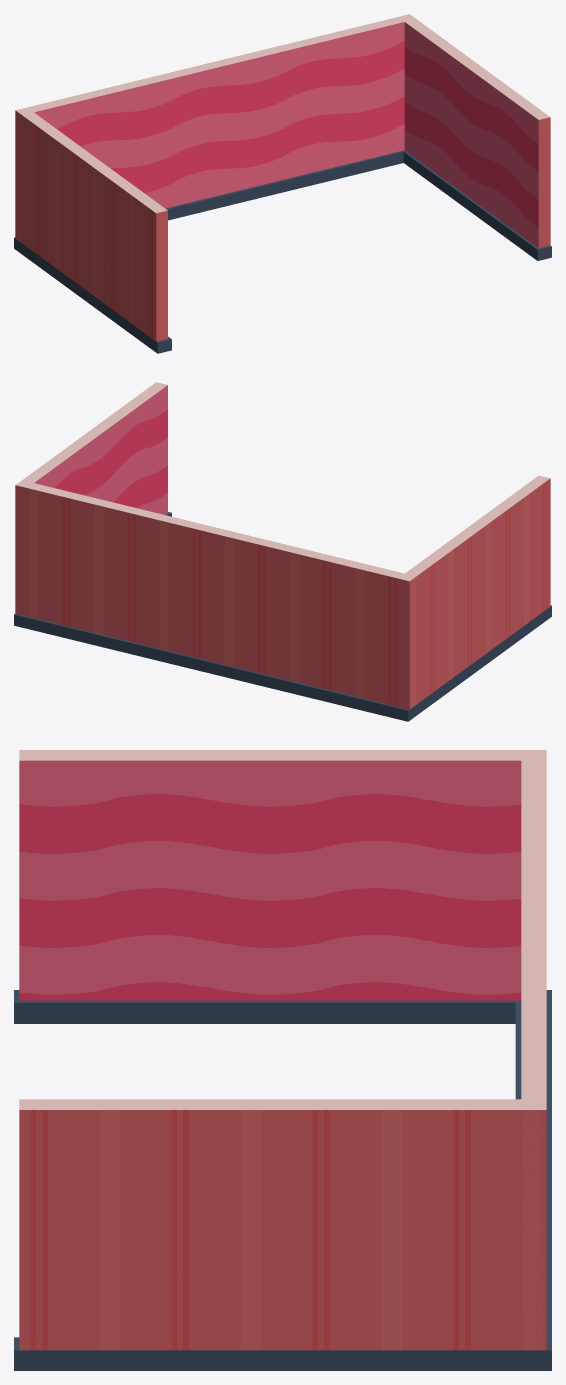
The model's file is Room02-2_Wall_geo.fbx.
3 views of the same model, one above another, from view 1: azimuth 30°, elevation 25°; view 2: azimuth 150°, elevation 25°; view 3: azimuth 270°, elevation 25° (orthographic). The views are drawn at different scales.
Parts seen in each view (by area): view 1: Room02-2_Wall_geo; view 2: Room02-2_Wall_geo; view 3: Room02-2_Wall_geo.
Part boxes in pixels (bbox=[...]): Room02-2_Wall_geo: bbox=[14, 14, 551, 353]; Room02-2_Wall_geo: bbox=[14, 382, 551, 721]; Room02-2_Wall_geo: bbox=[14, 750, 551, 1370].
Bounding box in the file's own units: 6.03 × 3.81 × 2.04.
